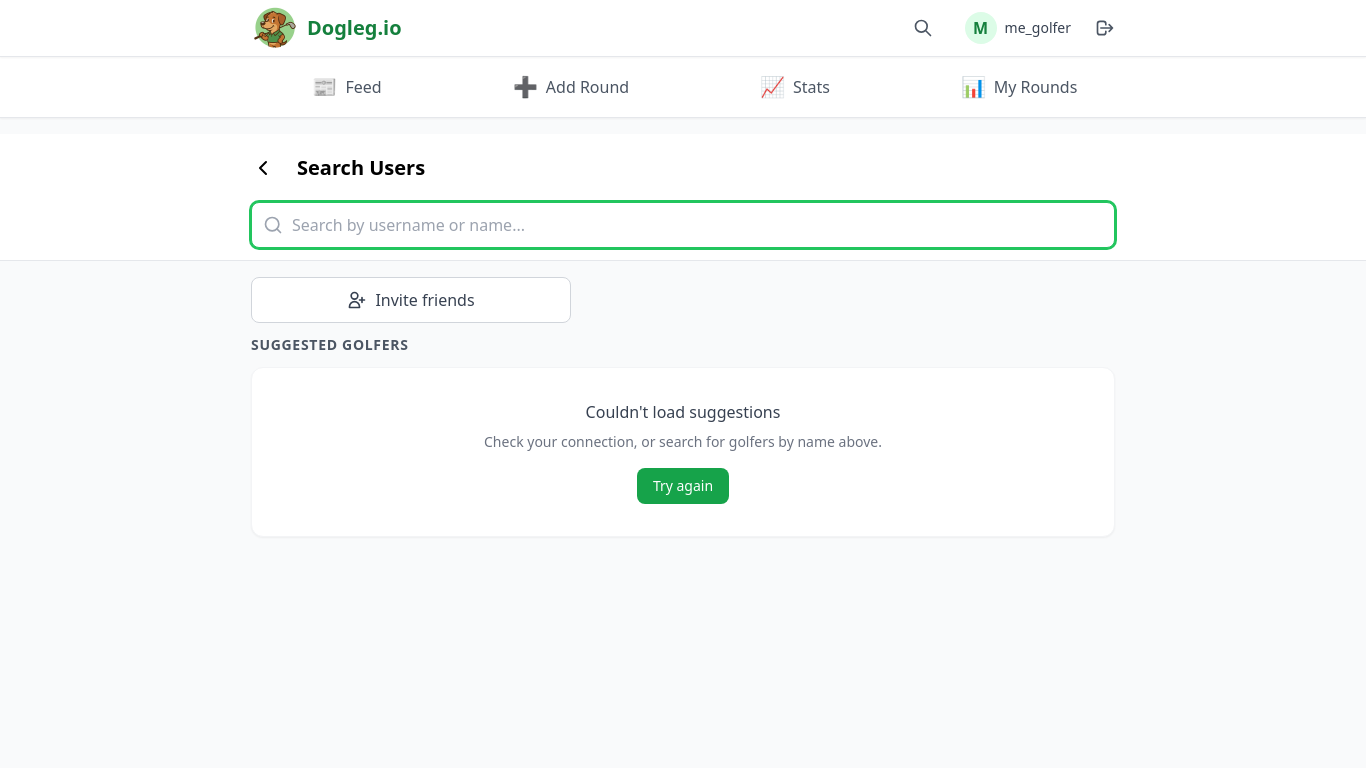
Scenario: when nothing can be read the page says so instead of "nothing to suggest", and Try again recovers
The image size is (1366, 768).
Expected: the text "Couldn't load suggestions" is shown, x1=586 y1=401 x2=780 y2=423
Click the button "Try again" at (683, 486), box x1=637 y1=468 x2=729 y2=504
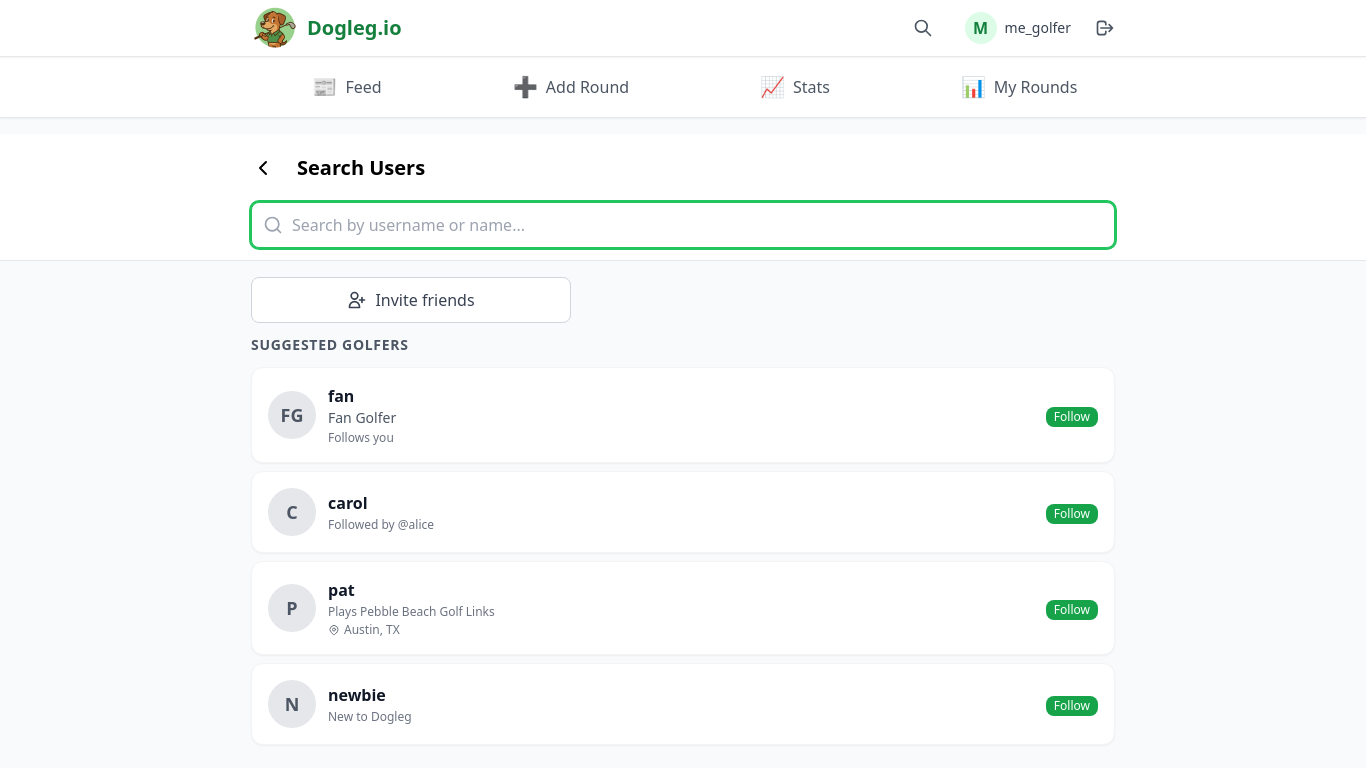
Now the text "Follows you" is shown, box x1=328 y1=429 x2=394 y2=446
